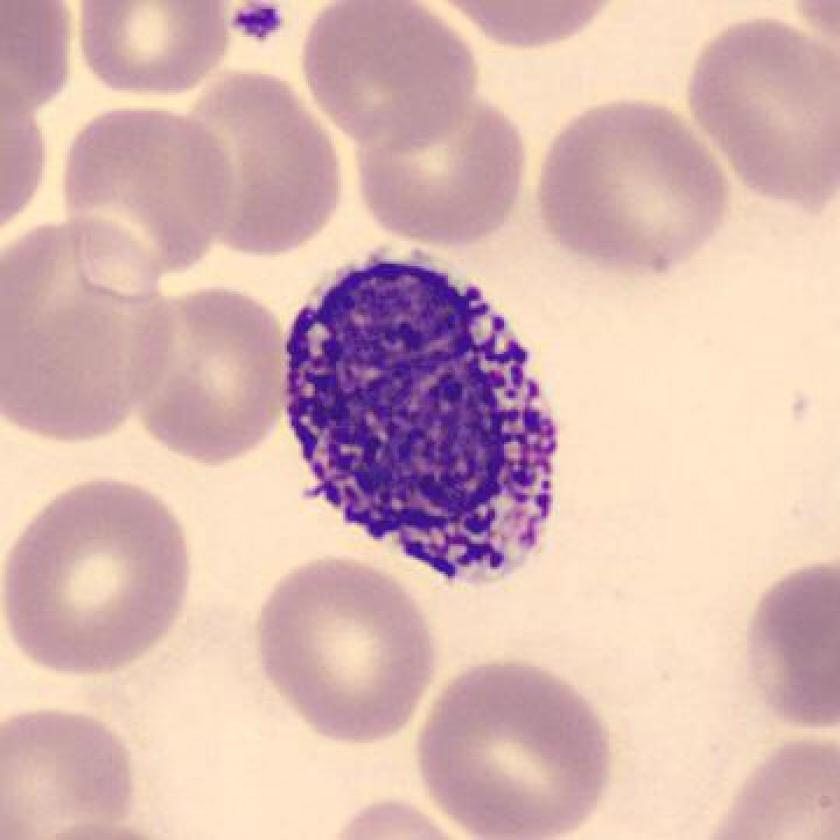basophil: (276, 251, 575, 591)
